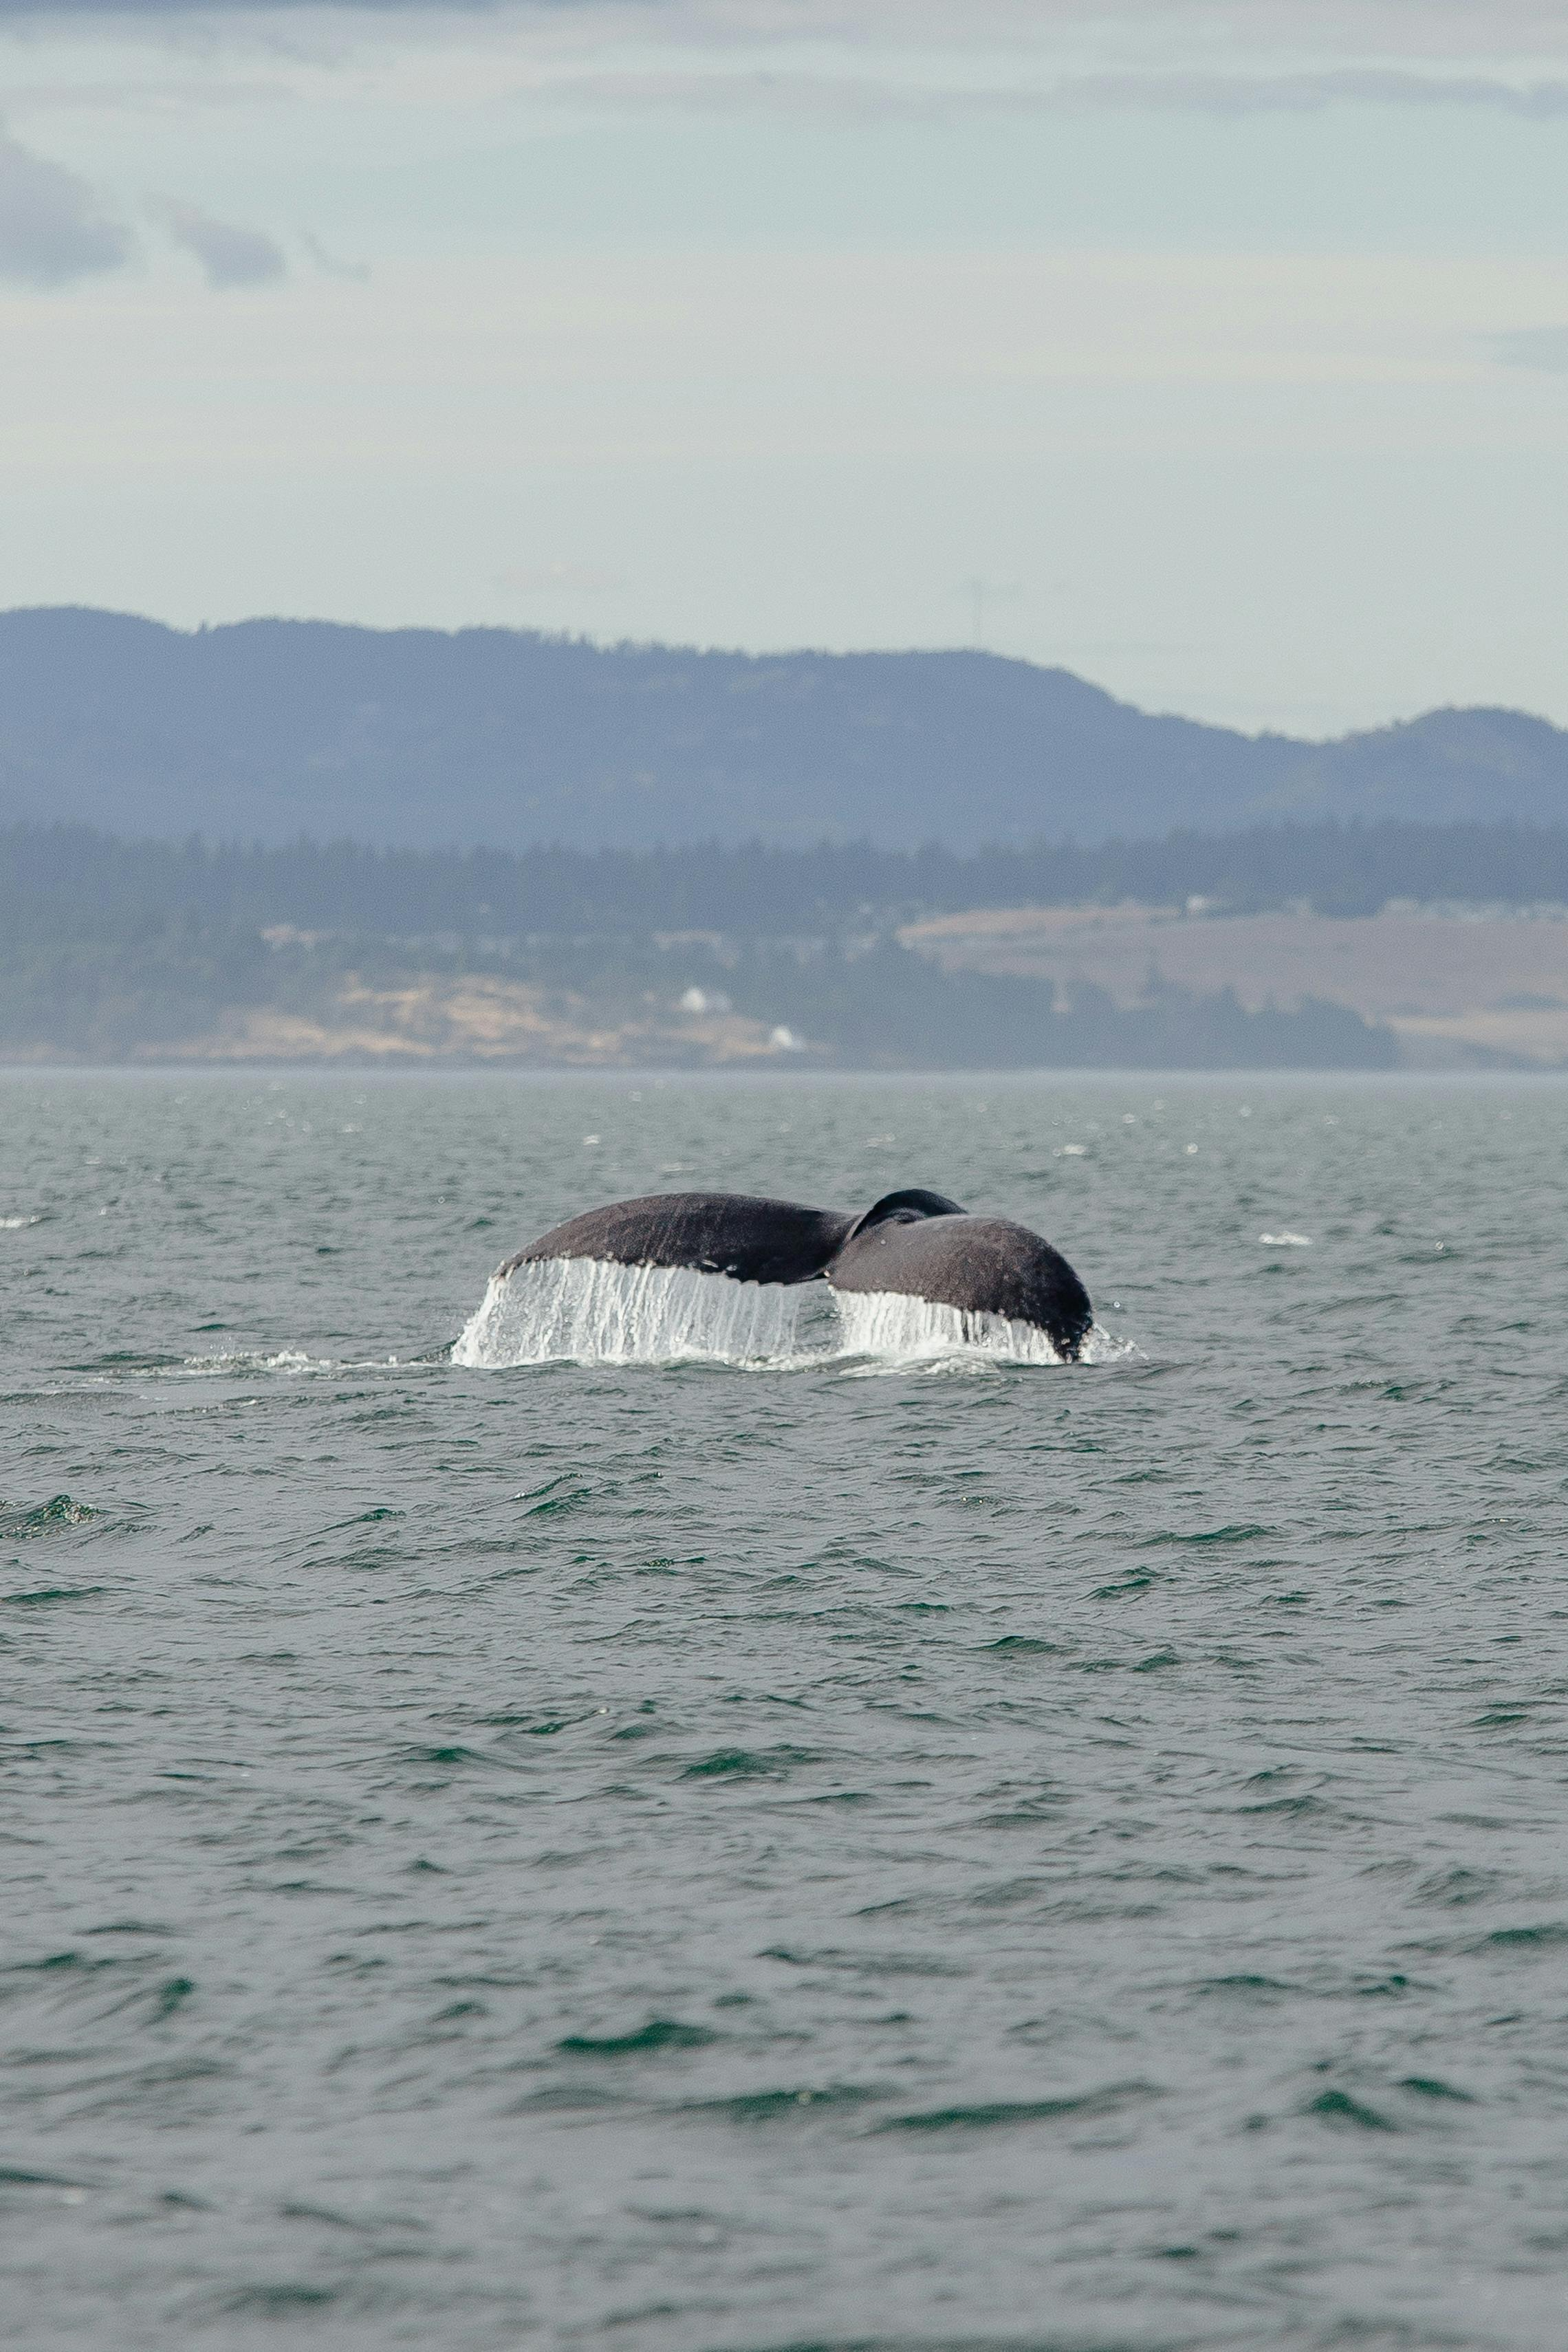whale: (495, 1181, 1095, 1365)
